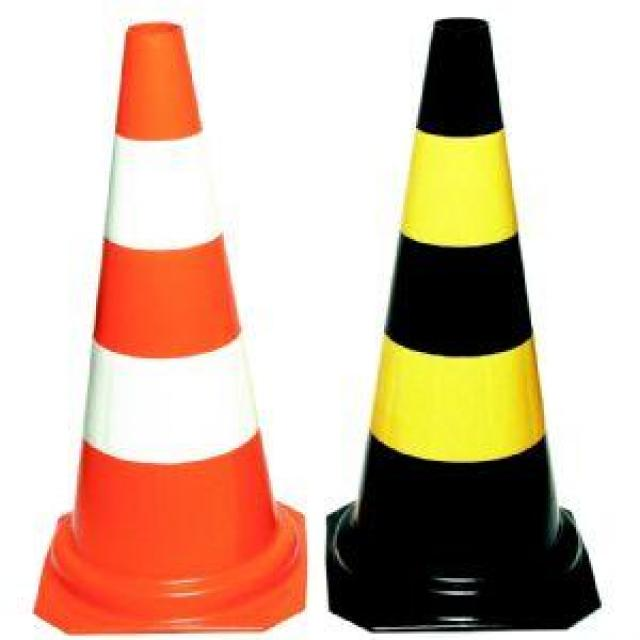cone: (43, 19, 313, 635), (321, 7, 577, 634)
